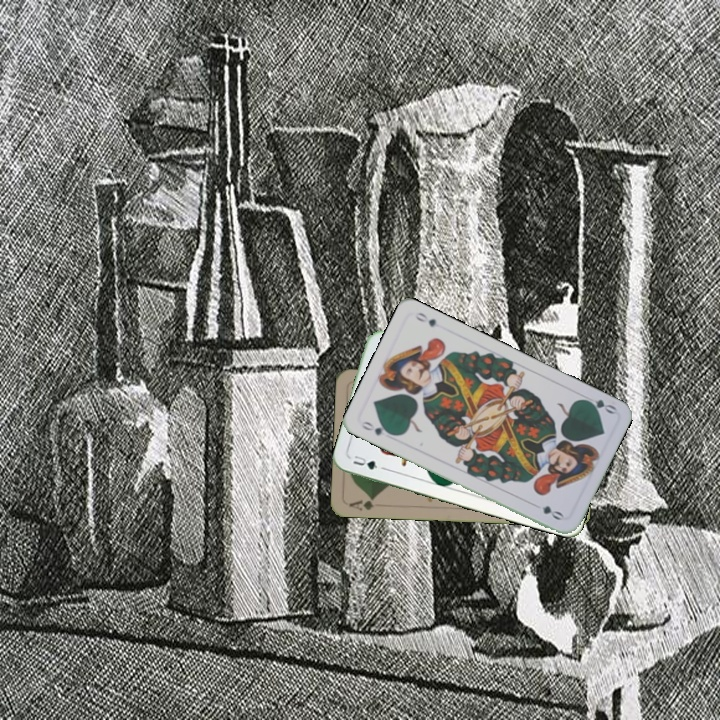GA: (345, 494, 377, 513)
GO: (578, 395, 619, 417), (357, 417, 396, 438)
GU: (349, 451, 386, 472)
